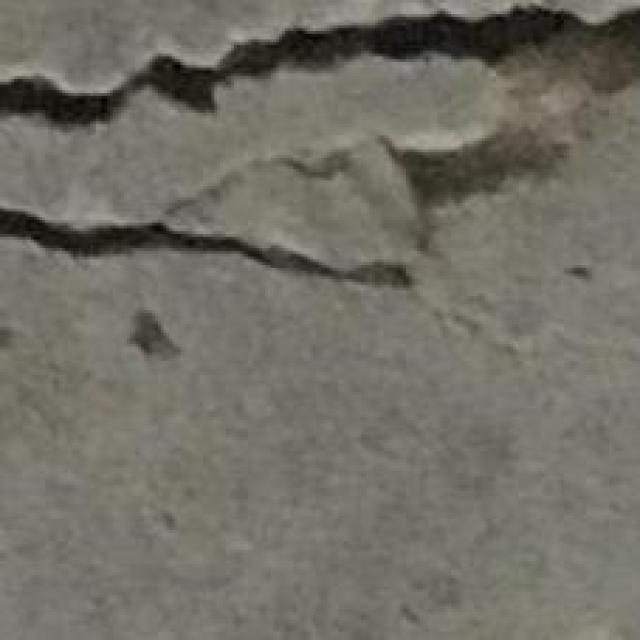Crack: (0, 0, 637, 127), (166, 119, 567, 208), (0, 203, 414, 285)
